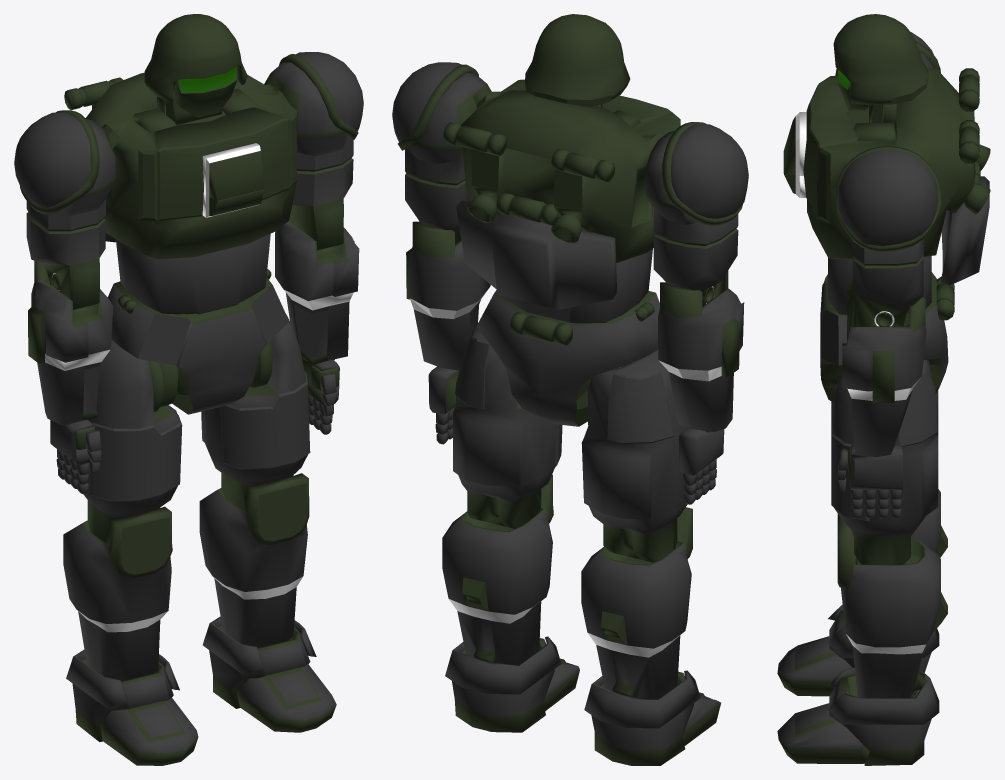
The model's file is mech.glb.
3 views of the same model, side by side, from view 1: azimuth 30°, elevation 25°; view 2: azimuth 150°, elevation 25°; view 3: azimuth 270°, elevation 25° (orthographic). The views are drawn at different scales.
Visible parts, largest first — view 1: Mech-Krieger Body, Cockpit Hatch; view 2: Mech-Krieger Body, Equipment Plate; view 3: Mech-Krieger Body, Equipment Plate, Cockpit Hatch.
Part boxes in pixels (<box>): Mech-Krieger Body: <box>14,14,363,765</box>; Cockpit Hatch: <box>202,143,264,217</box>; Mech-Krieger Body: <box>392,14,748,765</box>; Equipment Plate: <box>456,200,617,309</box>; Mech-Krieger Body: <box>777,14,990,765</box>; Equipment Plate: <box>940,176,989,285</box>; Cockpit Hatch: <box>783,112,806,197</box>.
Bounding box in the file's own units: 9.78 × 19.48 × 5.38.
